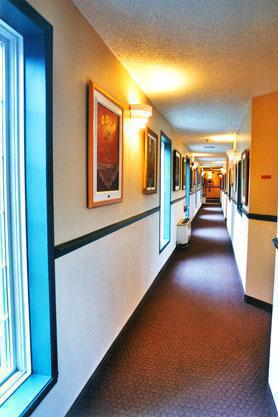Otro Obstaculo: (178, 217, 193, 249)
Ventana: (6, 35, 46, 412), (159, 141, 174, 250)
